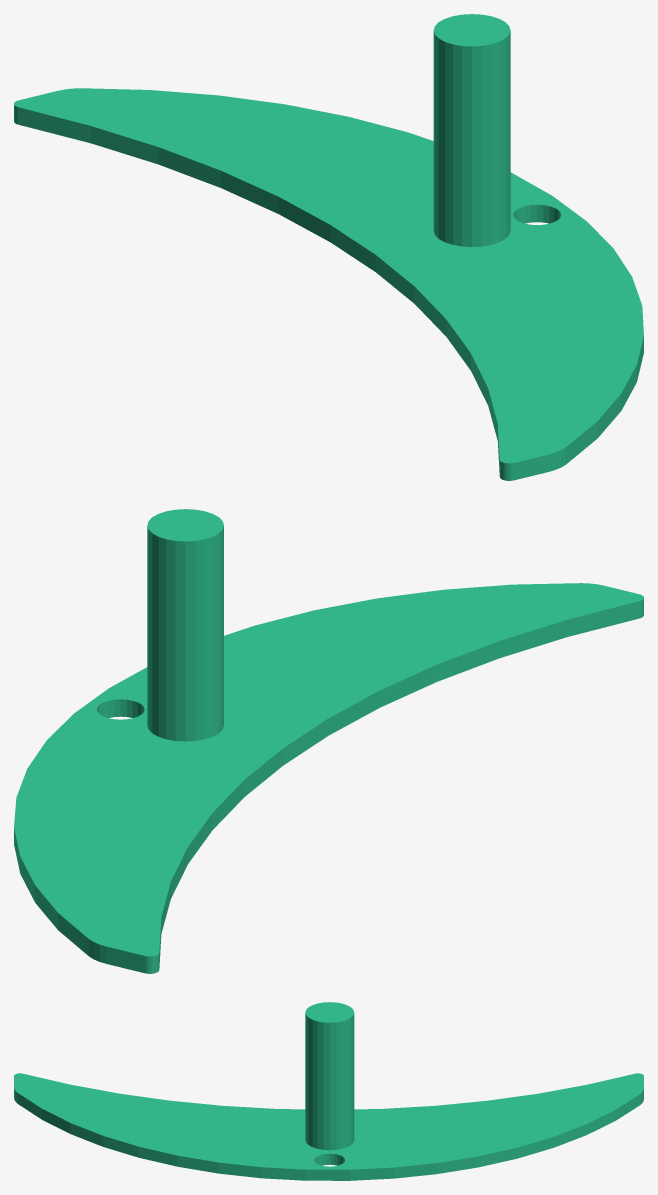
The model's file is SensorInferior.glb.
The picture shows the model from 3 angles, top to bottom: view 1: azimuth 30°, elevation 25°; view 2: azimuth 150°, elevation 25°; view 3: azimuth 270°, elevation 25°; orthographic projection. The views are drawn at different scales.
Visible parts, largest first — view 1: Mesh_0.003; view 2: Mesh_0.003; view 3: Mesh_0.003.
Part boxes in pixels (x1=…): Mesh_0.003: x1=14, y1=14, x2=643, y2=480; Mesh_0.003: x1=14, y1=509, x2=643, y2=973; Mesh_0.003: x1=14, y1=1002, x2=643, y2=1180.
Bounding box in the file's own units: 37.3 × 25 × 103.
